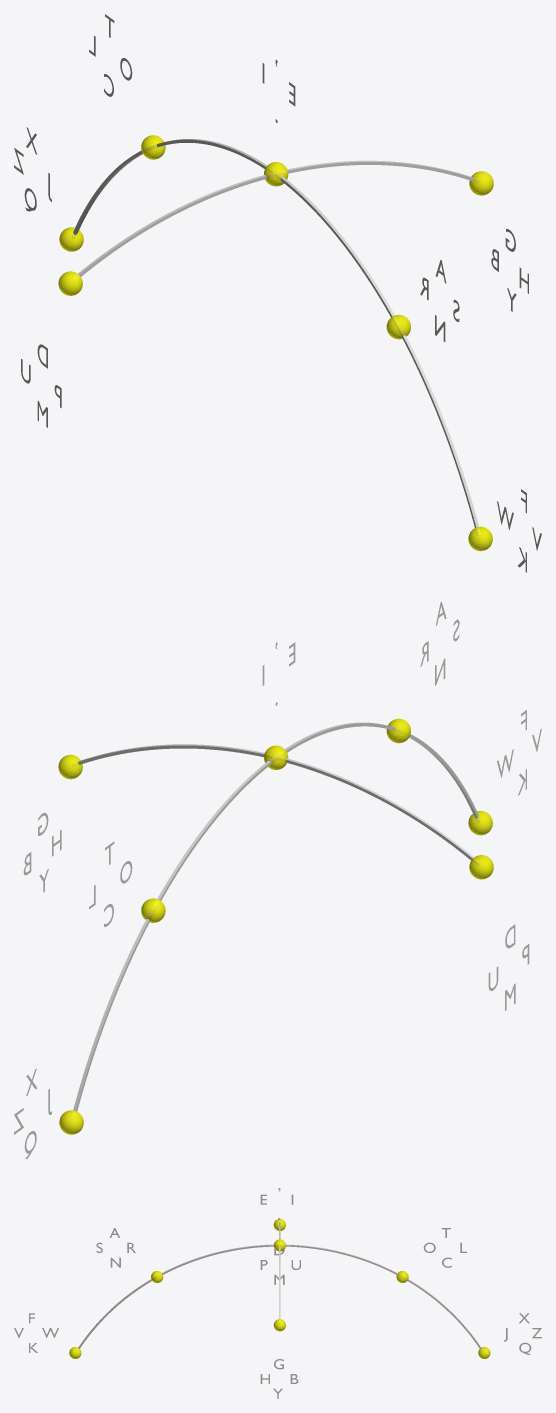
File: Orbit - Freq.fbx
3 renders of one model, top to bottom at view 1: azimuth 30°, elevation 25°; view 2: azimuth 150°, elevation 25°; view 3: azimuth 270°, elevation 25°, orthographic. The views are drawn at different scales.
Parts seen in each view (by area): view 1: Cube, Cube.001; view 2: Cube, Cube.001; view 3: Cube.
Boxes of the visible parts, left/top/right/bottom form: Cube: left=71, top=139, right=480, bottom=534; Cube.001: left=72, top=160, right=479, bottom=281; Cube: left=71, top=722, right=480, bottom=1118; Cube.001: left=72, top=744, right=479, bottom=865; Cube: left=77, top=1244, right=482, bottom=1351.
Bounding box in the file's own units: 660 × 460 × 1291.
